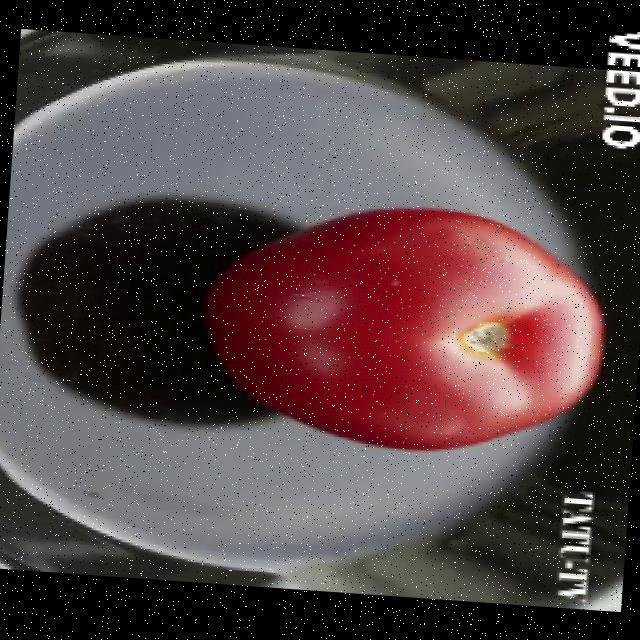tomato: (201, 192, 625, 471)
